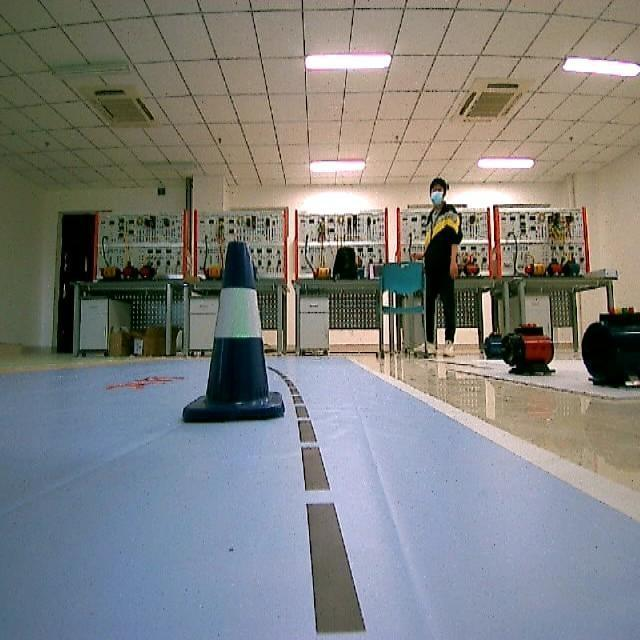obstacle: (178, 241, 290, 424)
